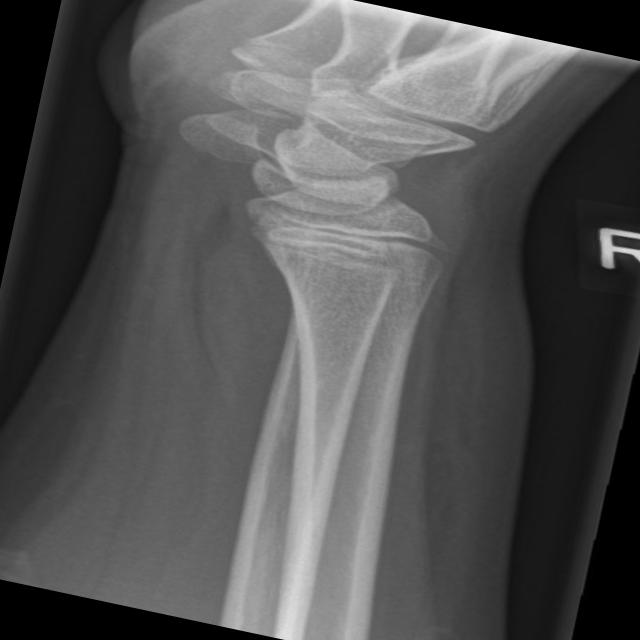fracture: (220, 182, 462, 296)
